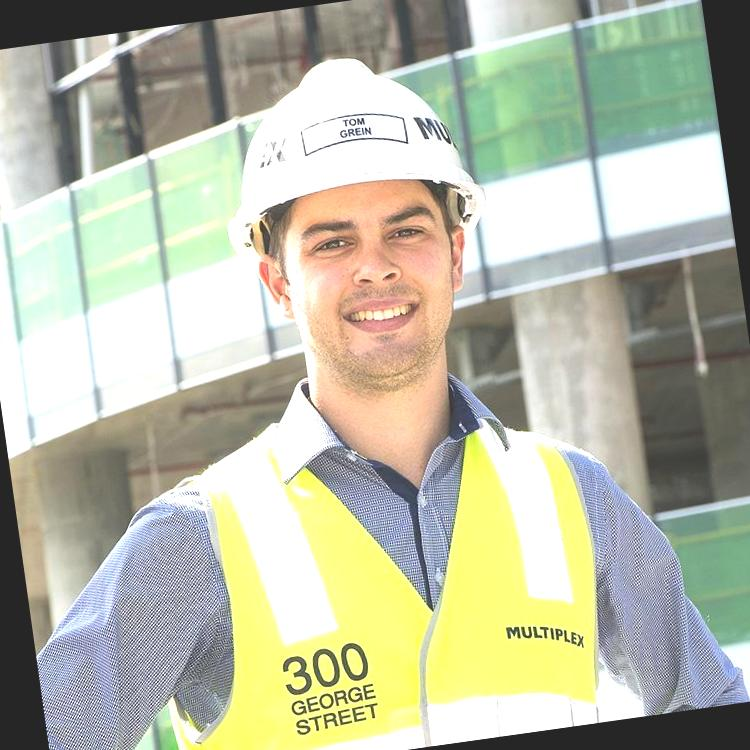helmet: (202, 37, 480, 230)
person: (0, 10, 708, 750)
